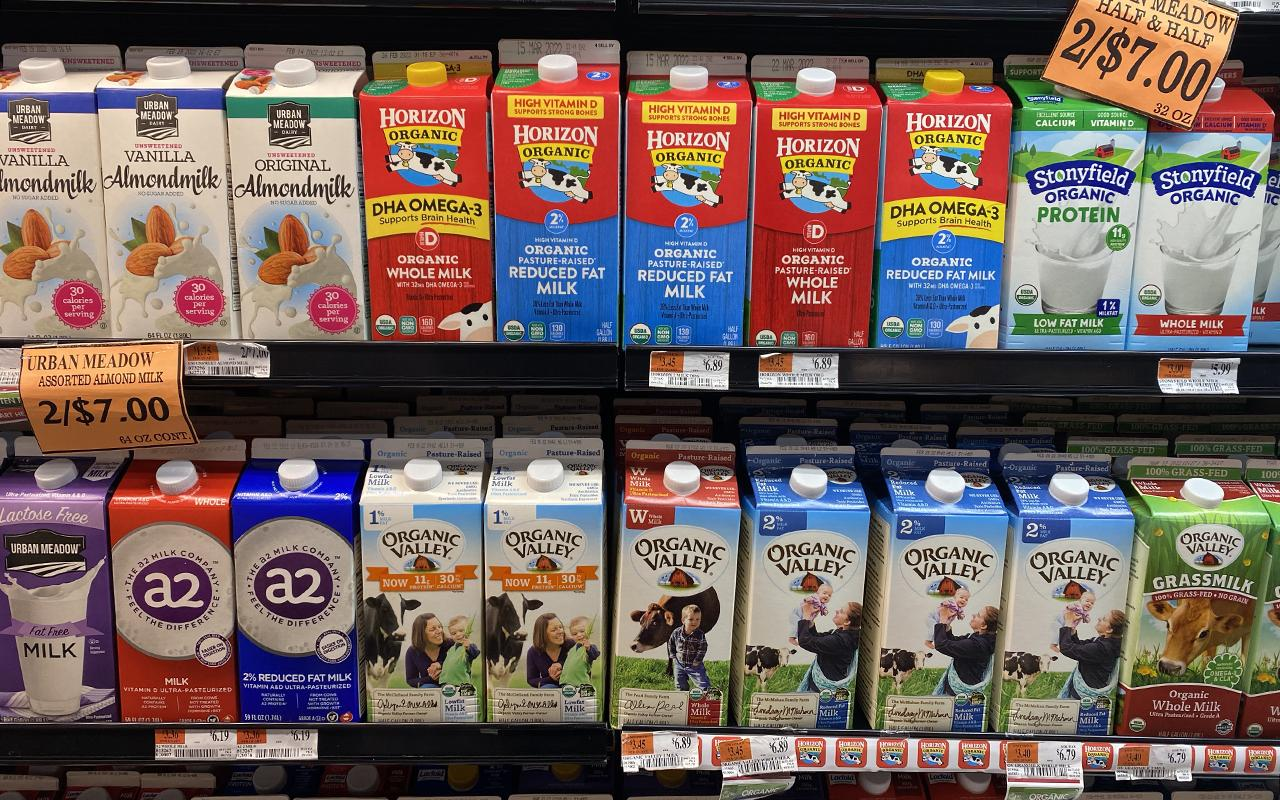cardboard: (1116, 460, 1271, 737), (861, 445, 1008, 733), (226, 45, 365, 340), (872, 60, 1010, 348), (731, 442, 869, 728), (359, 50, 494, 341), (491, 40, 620, 344), (749, 56, 882, 347), (96, 56, 233, 338), (1003, 80, 1146, 349), (1127, 88, 1272, 352), (999, 449, 1132, 735), (623, 51, 751, 346), (231, 440, 363, 723), (108, 445, 242, 721), (612, 437, 740, 725), (360, 438, 486, 722), (485, 436, 604, 722), (0, 455, 124, 720), (0, 59, 108, 339), (1044, 0, 1236, 129), (19, 340, 196, 453), (1003, 739, 1083, 799)
